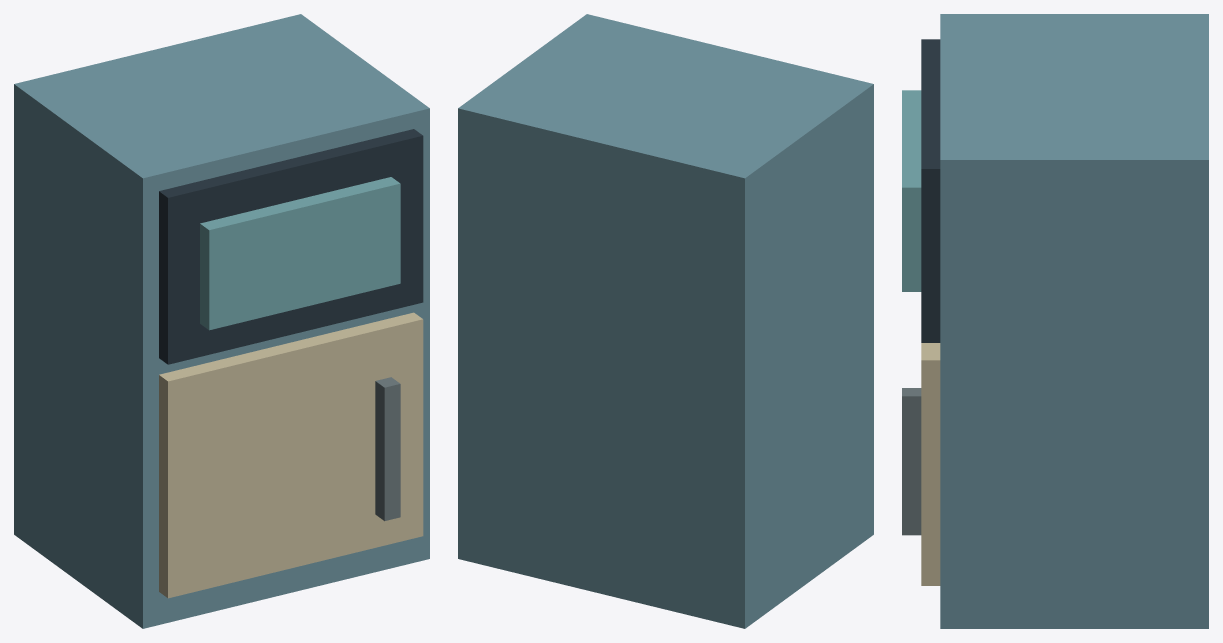
Rendered from travel-10.glb.
3 renders of one model, left to right at view 1: azimuth 30°, elevation 25°; view 2: azimuth 150°, elevation 25°; view 3: azimuth 270°, elevation 25°, orthographic. The views are drawn at different scales.
Visible parts, largest first — view 1: Ticket kiosk; view 2: Ticket kiosk; view 3: Ticket kiosk.
Boxes of the visible parts, left/top/right/bottom form: Ticket kiosk: left=14, top=14, right=429, bottom=628; Ticket kiosk: left=458, top=14, right=873, bottom=628; Ticket kiosk: left=902, top=14, right=1208, bottom=628.
Size of the model in its own units: 1.44 by 2.16 by 1.28.
